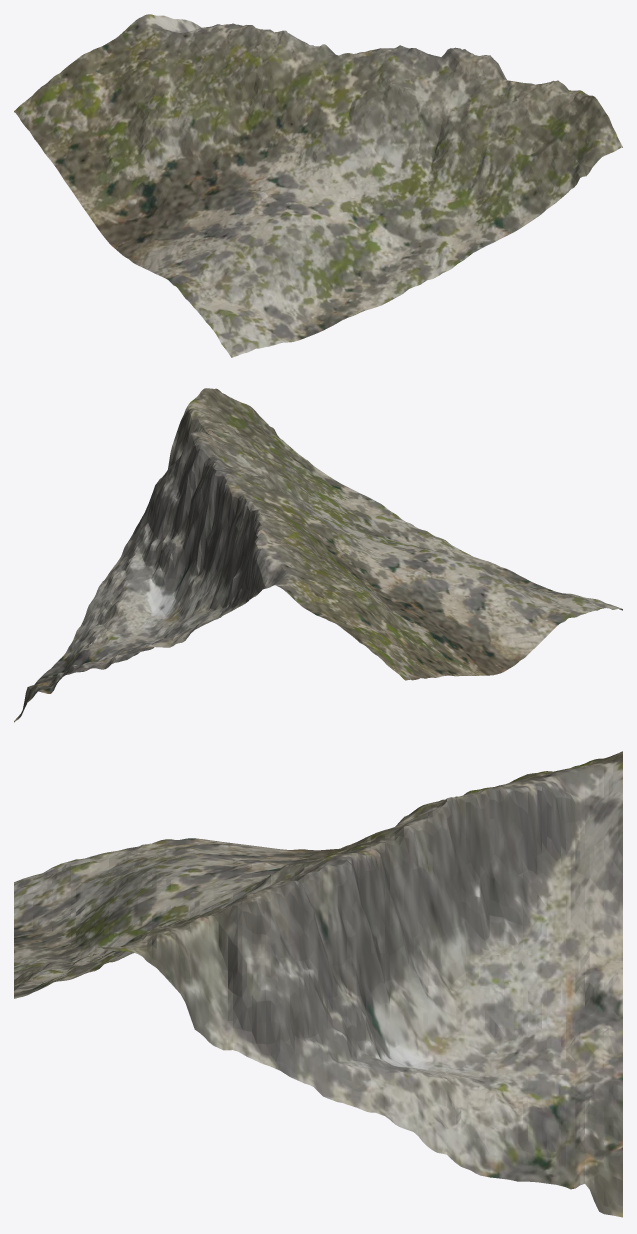
3 views of the same model, one above another, from view 1: azimuth 30°, elevation 25°; view 2: azimuth 150°, elevation 25°; view 3: azimuth 270°, elevation 25° (orthographic). The views are drawn at different scales.
Size of the model in its own units: 250 by 130 by 241.
Materials: 1 (1 with a texture image).
